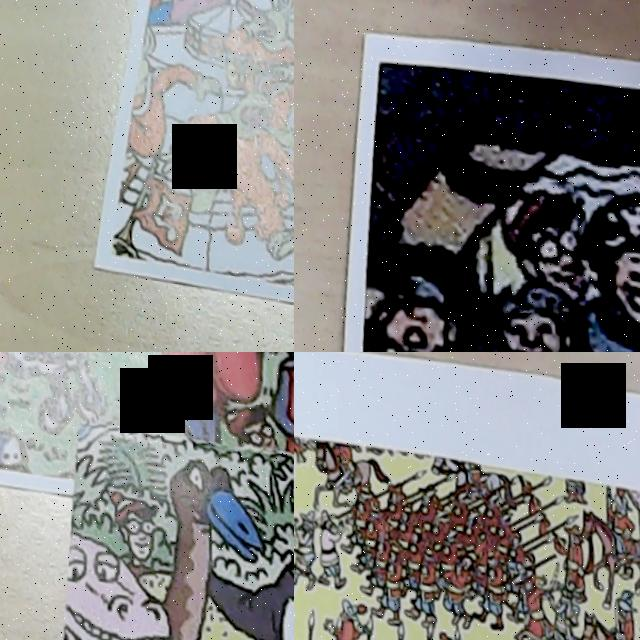waldo: (484, 166, 594, 314), (104, 486, 155, 558), (214, 390, 276, 448)
